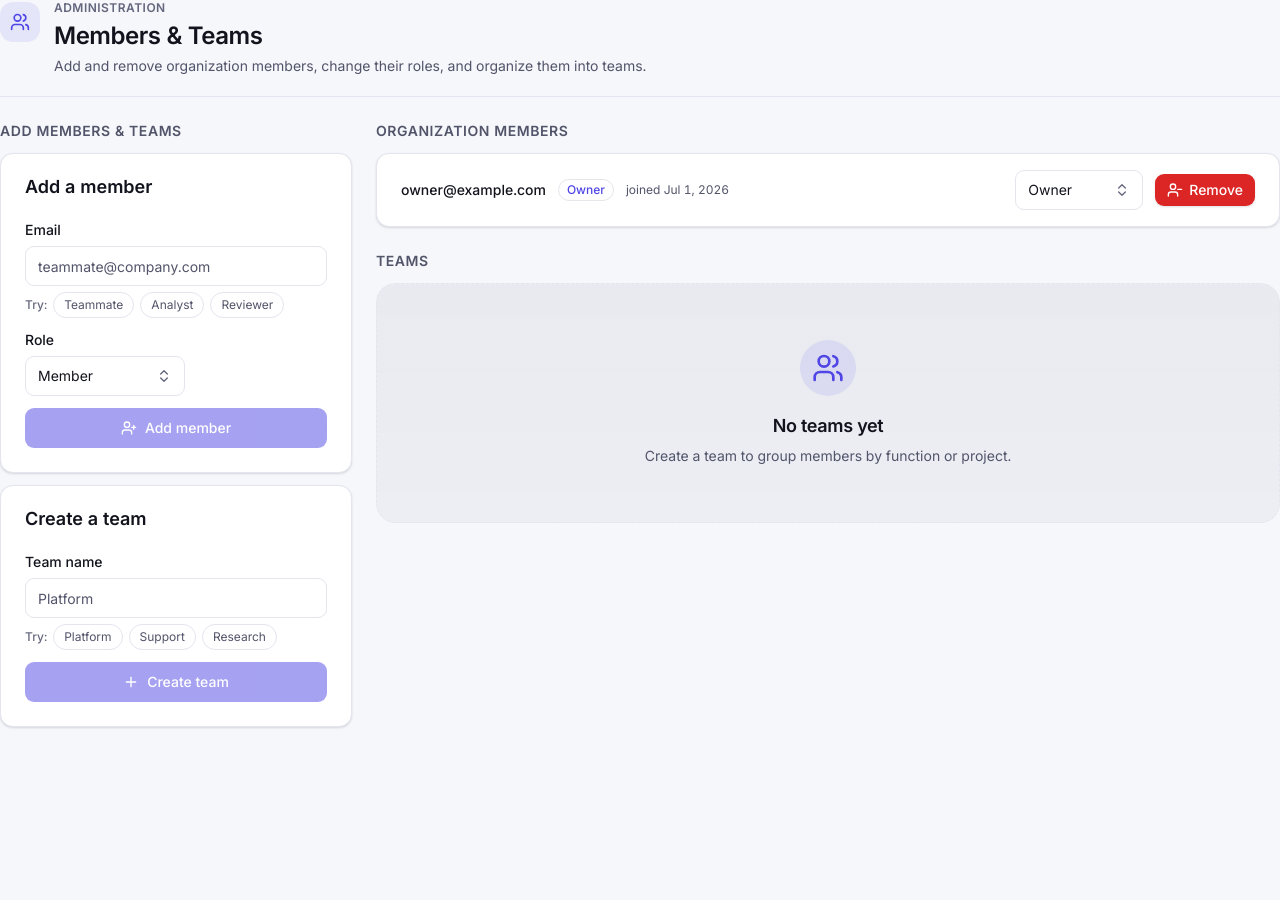
Scenario: org management gating (MSW) › surfaces the backend last_owner refusal instead of pre-empting it
Check: the list with test id "members-list" is shown, box [376, 153, 1279, 227]
What coordinates should you click on to do the following:
click the button with test id "remove-member-u1"
I would click on:
 (1205, 190)
Its box is [1155, 174, 1255, 206].
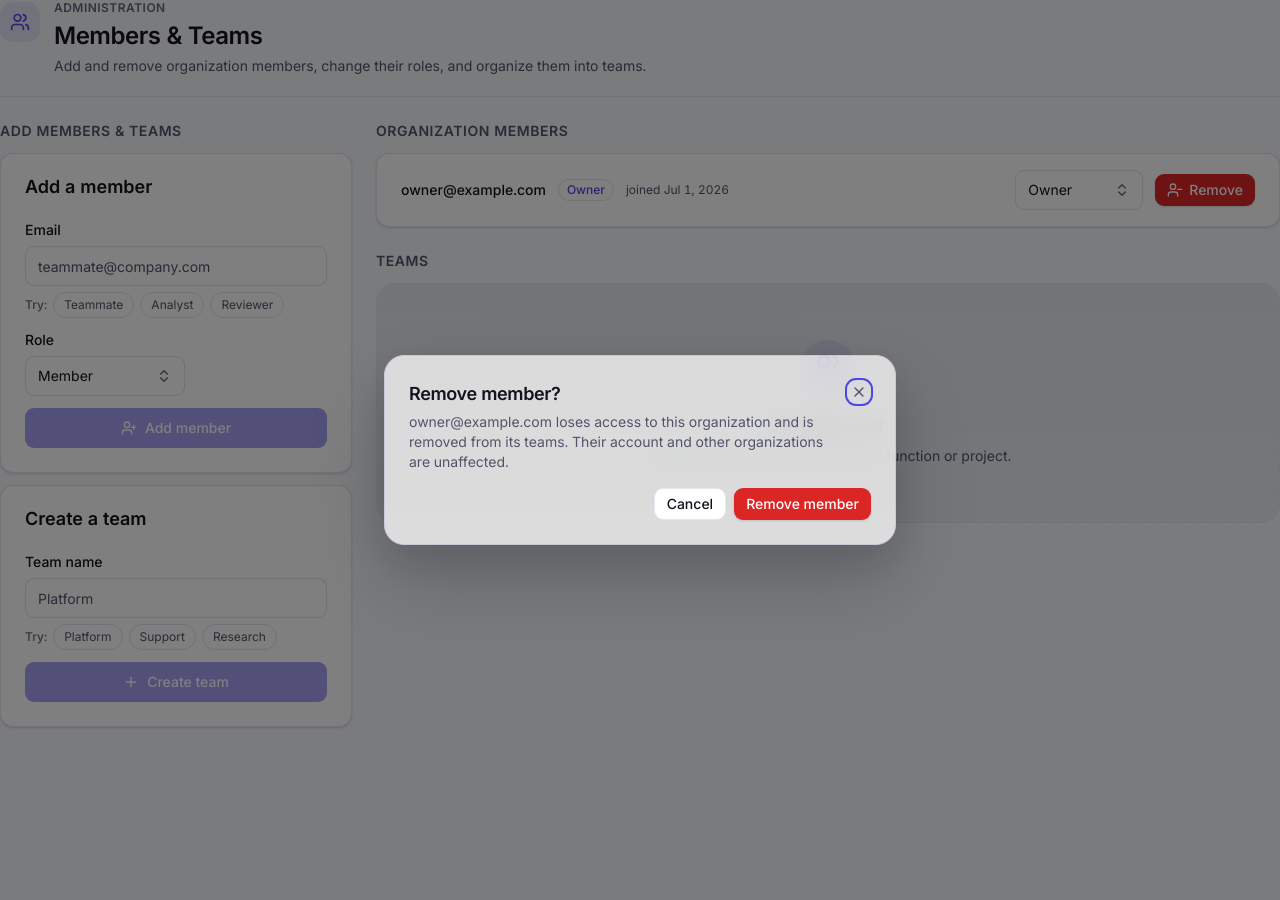
What coordinates should you click on to do the following:
click the button with test id "confirm-remove-member-u1"
I would click on:
 (803, 504)
Its box is [734, 488, 871, 520].
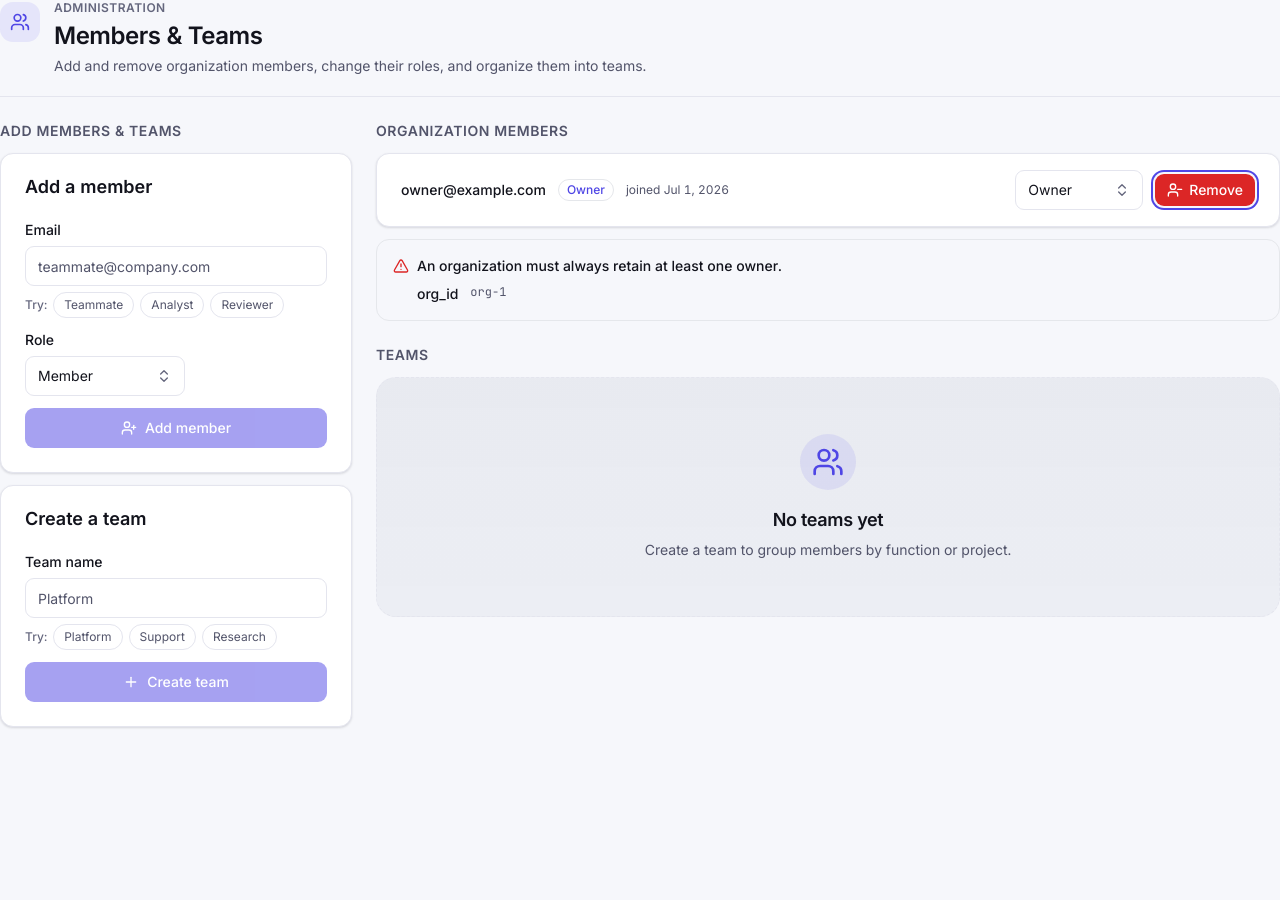
Check: the text "owner@example.com" is shown, box [401, 180, 546, 200]
Check: the element with test id "error-message" shows "at least one owner", box [417, 257, 782, 274]
